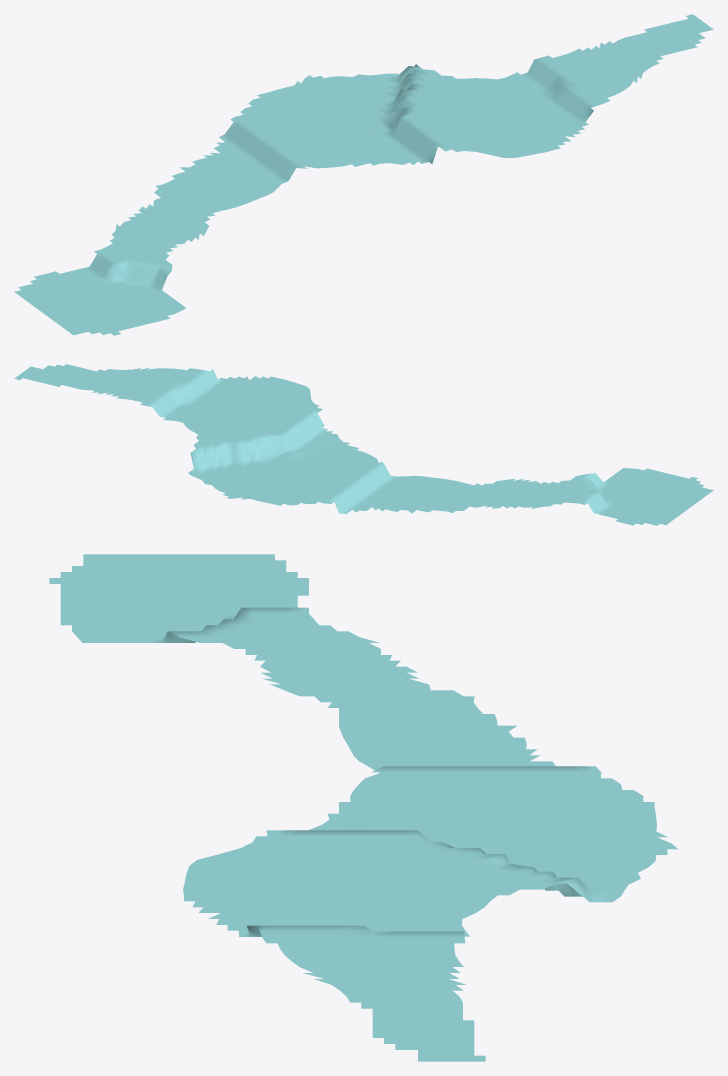
The model's file is RiverModel7.FBX.
3 renders of one model, top to bottom at view 1: azimuth 30°, elevation 25°; view 2: azimuth 150°, elevation 25°; view 3: azimuth 270°, elevation 25°, orthographic. The views are drawn at different scales.
Visible parts, largest first — view 1: WaterModel5; view 2: WaterModel5; view 3: WaterModel5.
Part boxes in pixels (x1,y1,x2,y2): WaterModel5: [14, 14, 713, 335]; WaterModel5: [14, 364, 713, 525]; WaterModel5: [49, 554, 677, 1061].
Bounding box in the file's own units: 1181 × 73.19 × 537.
